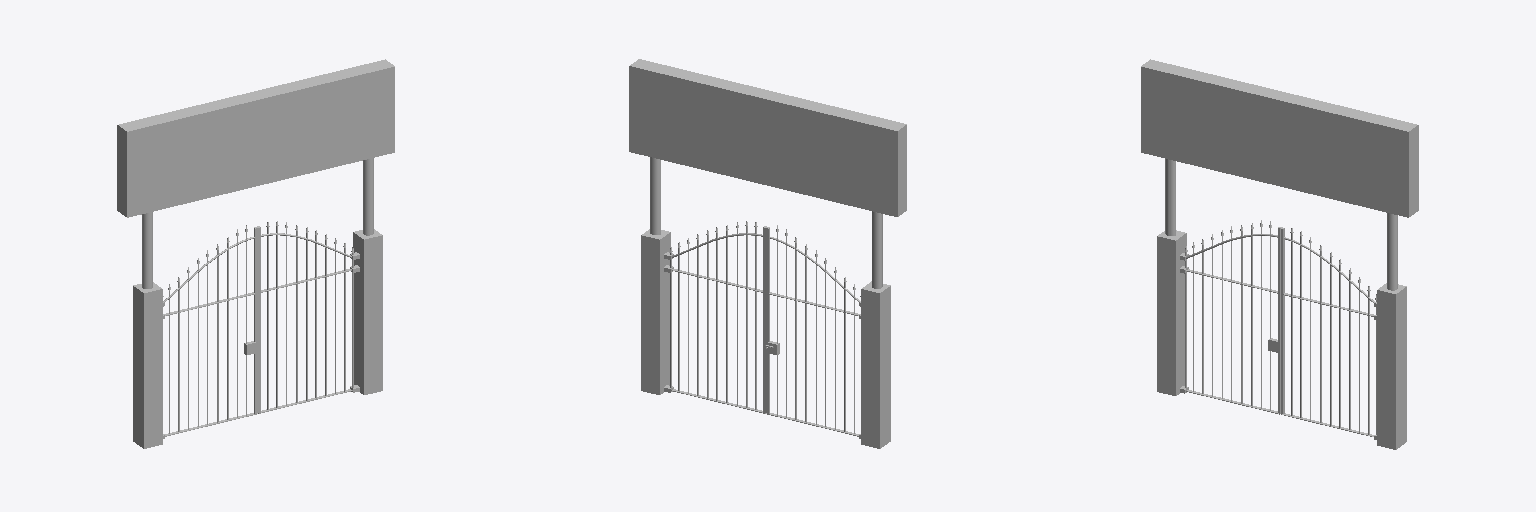
Rendered from puerta_con_marco_text.obj.
3 renders of one model, left to right at view 1: azimuth 30°, elevation 25°; view 2: azimuth 150°, elevation 25°; view 3: azimuth 330°, elevation 25°, orthographic.
Visible parts, largest first — view 1: villa_gate; view 2: villa_gate; view 3: villa_gate.
Boxes of the visible parts, x1=… form: villa_gate: x1=117, y1=59, x2=394, y2=448; villa_gate: x1=629, y1=59, x2=906, y2=448; villa_gate: x1=1141, y1=59, x2=1418, y2=449.
Size of the model in its own units: 2.81 by 3.22 by 0.197.